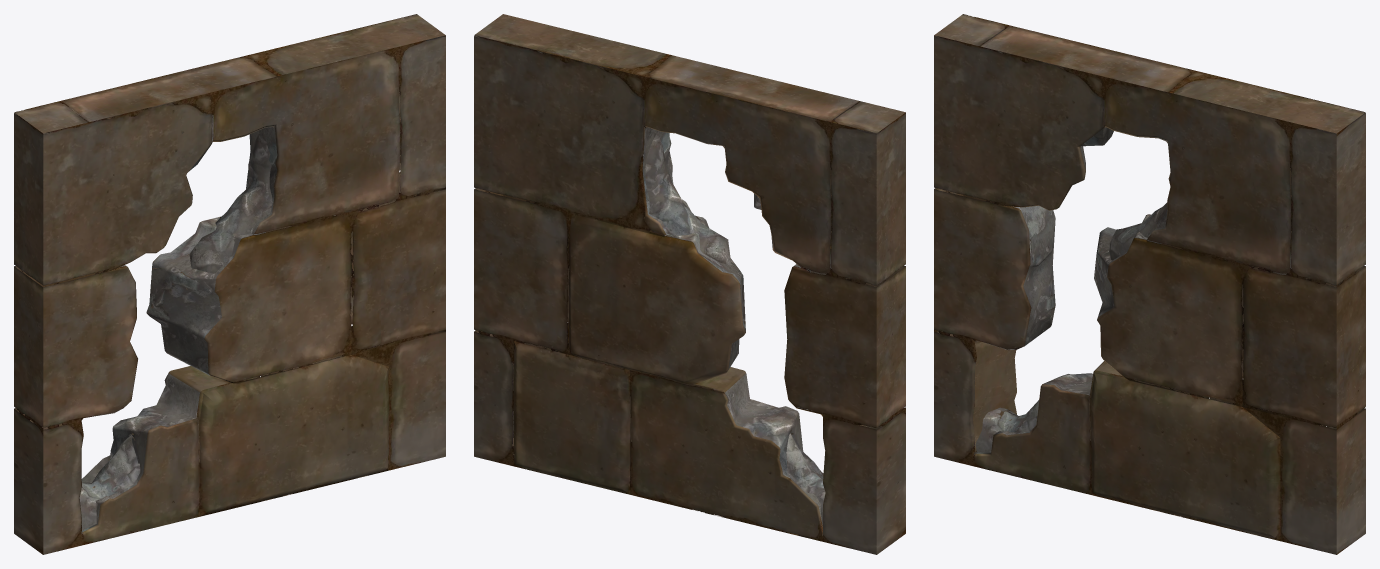
3 views of the same model, side by side, from view 1: azimuth 30°, elevation 25°; view 2: azimuth 150°, elevation 25°; view 3: azimuth 330°, elevation 25° (orthographic).
Visible parts, largest first — view 1: SM_Vault_4x4_Dmg_Wall_01_V3_LOD0; view 2: SM_Vault_4x4_Dmg_Wall_01_V3_LOD0; view 3: SM_Vault_4x4_Dmg_Wall_01_V3_LOD0.
Part boxes in pixels (left/top/right/bottom): SM_Vault_4x4_Dmg_Wall_01_V3_LOD0: left=14, top=14, right=445, bottom=554; SM_Vault_4x4_Dmg_Wall_01_V3_LOD0: left=474, top=14, right=905, bottom=554; SM_Vault_4x4_Dmg_Wall_01_V3_LOD0: left=934, top=14, right=1365, bottom=554.
Size of the model in its own units: 4 by 4 by 0.6038.
Materials: 2 (2 with a texture image).
